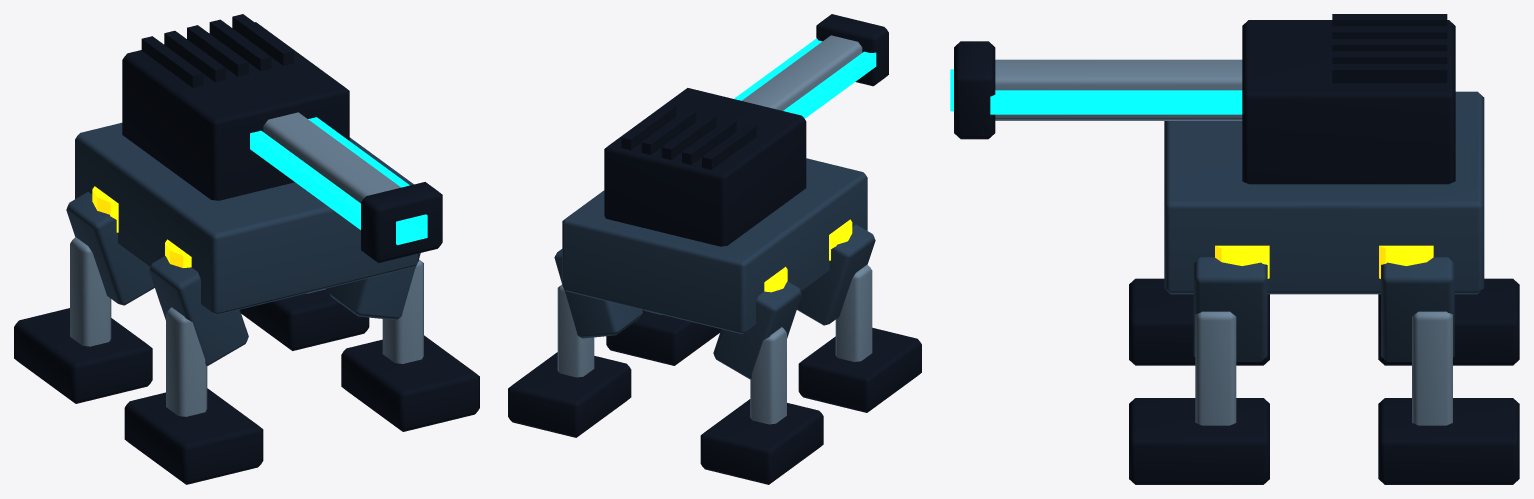
Rendered from walker.glb.
3 views of the same model, side by side, from view 1: azimuth 30°, elevation 25°; view 2: azimuth 150°, elevation 25°; view 3: azimuth 270°, elevation 25° (orthographic). The views are drawn at different scales.
Visible parts, largest first — view 1: Siege hull, Turret, Siege foot.001, Siege foot.003, Siege foot, Muzzle collar, Railgun, Siege foot.002, Upper leg armor.001, Upper leg armor, Lower piston.001, Lower piston (+12 smaller); view 2: Siege hull, Turret, Siege foot, Siege foot.002, Siege foot.001, Siege foot.003, Railgun, Upper leg armor, Upper leg armor.001, Lower piston, Lower piston.001, Upper leg armor.002 (+10 smaller); view 3: Siege hull, Turret, Siege foot.002, Siege foot.003, Railgun, Accelerator rail.001, Siege foot, Siege foot.001, Upper leg armor.003, Upper leg armor.002, Lower piston.003, Lower piston.002 (+8 smaller).
Part boxes in pixels (bbox=[...]): Siege hull: bbox=[75, 122, 418, 315]; Turret: bbox=[122, 22, 349, 200]; Siege foot.001: bbox=[124, 388, 263, 484]; Siege foot.003: bbox=[341, 335, 479, 431]; Siege foot: bbox=[14, 308, 152, 403]; Muzzle collar: bbox=[361, 182, 442, 263]; Railgun: bbox=[263, 112, 400, 203]; Siege foot.002: bbox=[240, 288, 369, 350]; Upper leg armor.001: bbox=[149, 256, 248, 366]; Upper leg armor: bbox=[66, 192, 154, 305]; Lower piston.001: bbox=[166, 307, 207, 416]; Lower piston: bbox=[70, 237, 111, 346]; Siege hull: bbox=[562, 158, 867, 334]; Turret: bbox=[604, 88, 806, 246]; Siege foot: bbox=[700, 399, 823, 484]; Siege foot.002: bbox=[508, 352, 631, 437]; Siege foot.001: bbox=[798, 327, 921, 412]; Siege foot.003: bbox=[606, 310, 720, 365]; Railgun: bbox=[742, 35, 862, 110]; Upper leg armor: bbox=[713, 281, 801, 379]; Upper leg armor.001: bbox=[797, 224, 875, 325]; Lower piston: bbox=[750, 327, 786, 424]; Lower piston.001: bbox=[835, 264, 872, 361]; Upper leg armor.002: bbox=[554, 249, 642, 338]; Siege hull: bbox=[1164, 91, 1484, 294]; Turret: bbox=[1242, 20, 1455, 184]; Siege foot.002: bbox=[1378, 398, 1519, 484]; Siege foot.003: bbox=[1129, 398, 1269, 484]; Railgun: bbox=[995, 59, 1242, 120]; Accelerator rail.001: bbox=[990, 90, 1242, 114]; Siege foot: bbox=[1378, 278, 1519, 365]; Siege foot.001: bbox=[1129, 278, 1269, 365]; Upper leg armor.003: bbox=[1193, 257, 1267, 361]; Upper leg armor.002: bbox=[1381, 257, 1454, 361]; Lower piston.003: bbox=[1195, 311, 1236, 425]; Lower piston.002: bbox=[1412, 311, 1452, 425].
Bounding box in the file's own units: 2.37 × 2.45 × 3.47.
